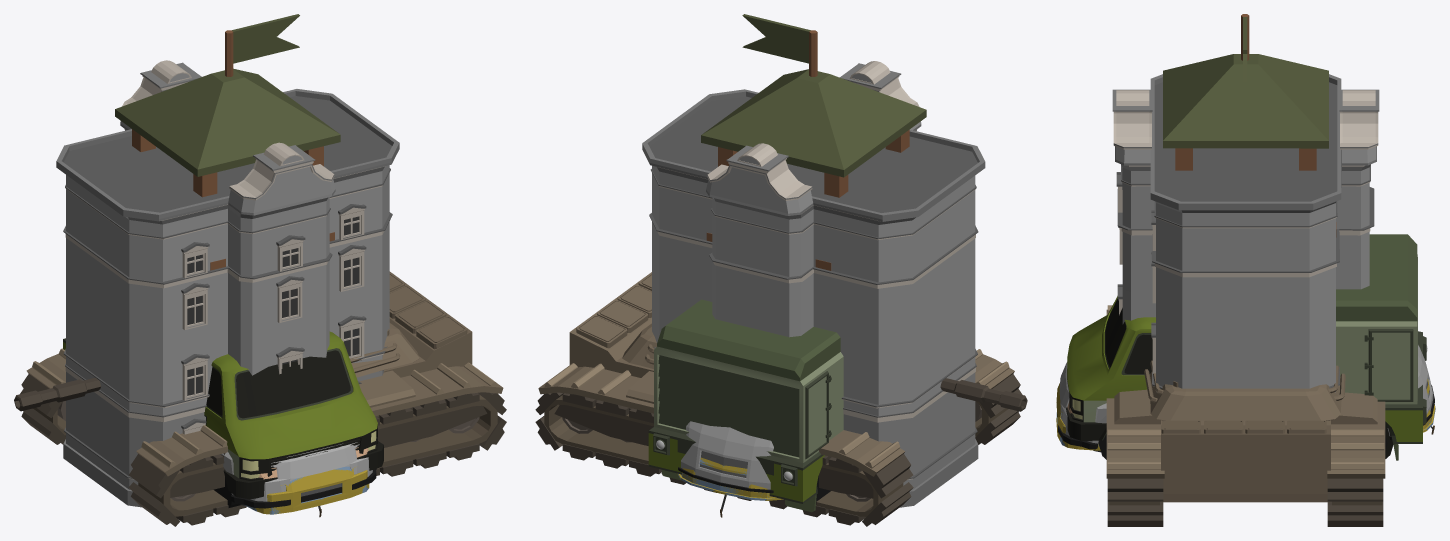
The model's file is env2.glb.
The picture shows the model from 3 angles, left to right: view 1: azimuth 30°, elevation 25°; view 2: azimuth 150°, elevation 25°; view 3: azimuth 270°, elevation 25°; orthographic projection.
Visible parts, largest first — view 1: City_Building, Tank, Guard_Tower, Vehicle_Army, Vehicle_SUV, Vehicle_Taxi; view 2: City_Building, Tank, Vehicle_Army, Guard_Tower, Vehicle_SUV, Vehicle_Taxi, Vehicle_Hatch; view 3: City_Building, Tank, Vehicle_Army, Guard_Tower, Vehicle_SUV, Vehicle_Taxi.
Part boxes in pixels (left/top/right/bottom): City_Building: left=56, top=60, right=399, bottom=507; Tank: left=14, top=271, right=506, bottom=526; Guard_Tower: left=115, top=14, right=340, bottom=270; Vehicle_Army: left=63, top=331, right=383, bottom=499; Vehicle_SUV: left=213, top=442, right=376, bottom=508; Vehicle_Taxi: left=254, top=467, right=369, bottom=514; City_Building: left=642, top=61, right=985, bottom=507; Tank: left=535, top=272, right=1027, bottom=526; Vehicle_Army: left=648, top=299, right=843, bottom=512; Guard_Tower: left=701, top=14, right=926, bottom=270; Vehicle_SUV: left=678, top=421, right=830, bottom=504; Vehicle_Taxi: left=677, top=457, right=782, bottom=500; Vehicle_Hatch: left=678, top=459, right=783, bottom=500; City_Building: left=1112, top=74, right=1379, bottom=392; Tank: left=1106, top=305, right=1385, bottom=526; Vehicle_Army: left=1066, top=234, right=1426, bottom=460; Guard_Tower: left=1163, top=14, right=1336, bottom=237; Vehicle_SUV: left=1057, top=345, right=1434, bottom=459; Vehicle_Taxi: left=1056, top=379, right=1435, bottom=450.
Size of the model in its own units: 7.07 by 6.71 by 5.49.
